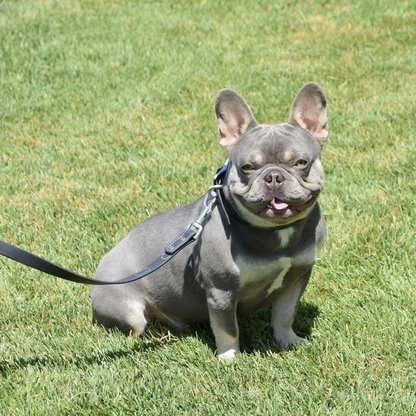bulldog: (84, 82, 335, 369)
